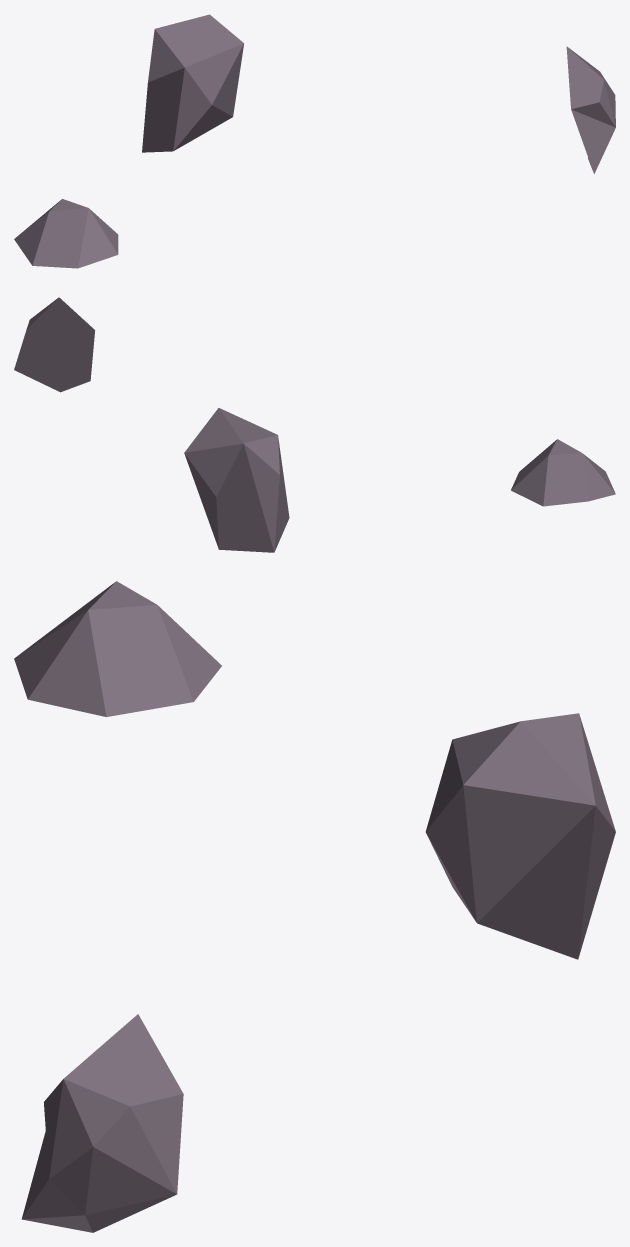
File: Small_stone_v04.fbx
3 views of the same model, one above another, from view 1: azimuth 30°, elevation 25°; view 2: azimuth 150°, elevation 25°; view 3: azimuth 270°, elevation 25° (orthographic). The views are drawn at different scales.
Parts seen in each view (by area): view 1: Small_stone_v04; view 2: Small_stone_v04; view 3: Small_stone_v04.
Boxes of the visible parts, x1,y1,x2,y2 form: Small_stone_v04: (14,14,615,268); Small_stone_v04: (14,297,615,552); Small_stone_v04: (14,581,615,1232).
Bounding box in the file's own units: 80.29 × 17.06 × 36.53.
1 material, 1 textured.
